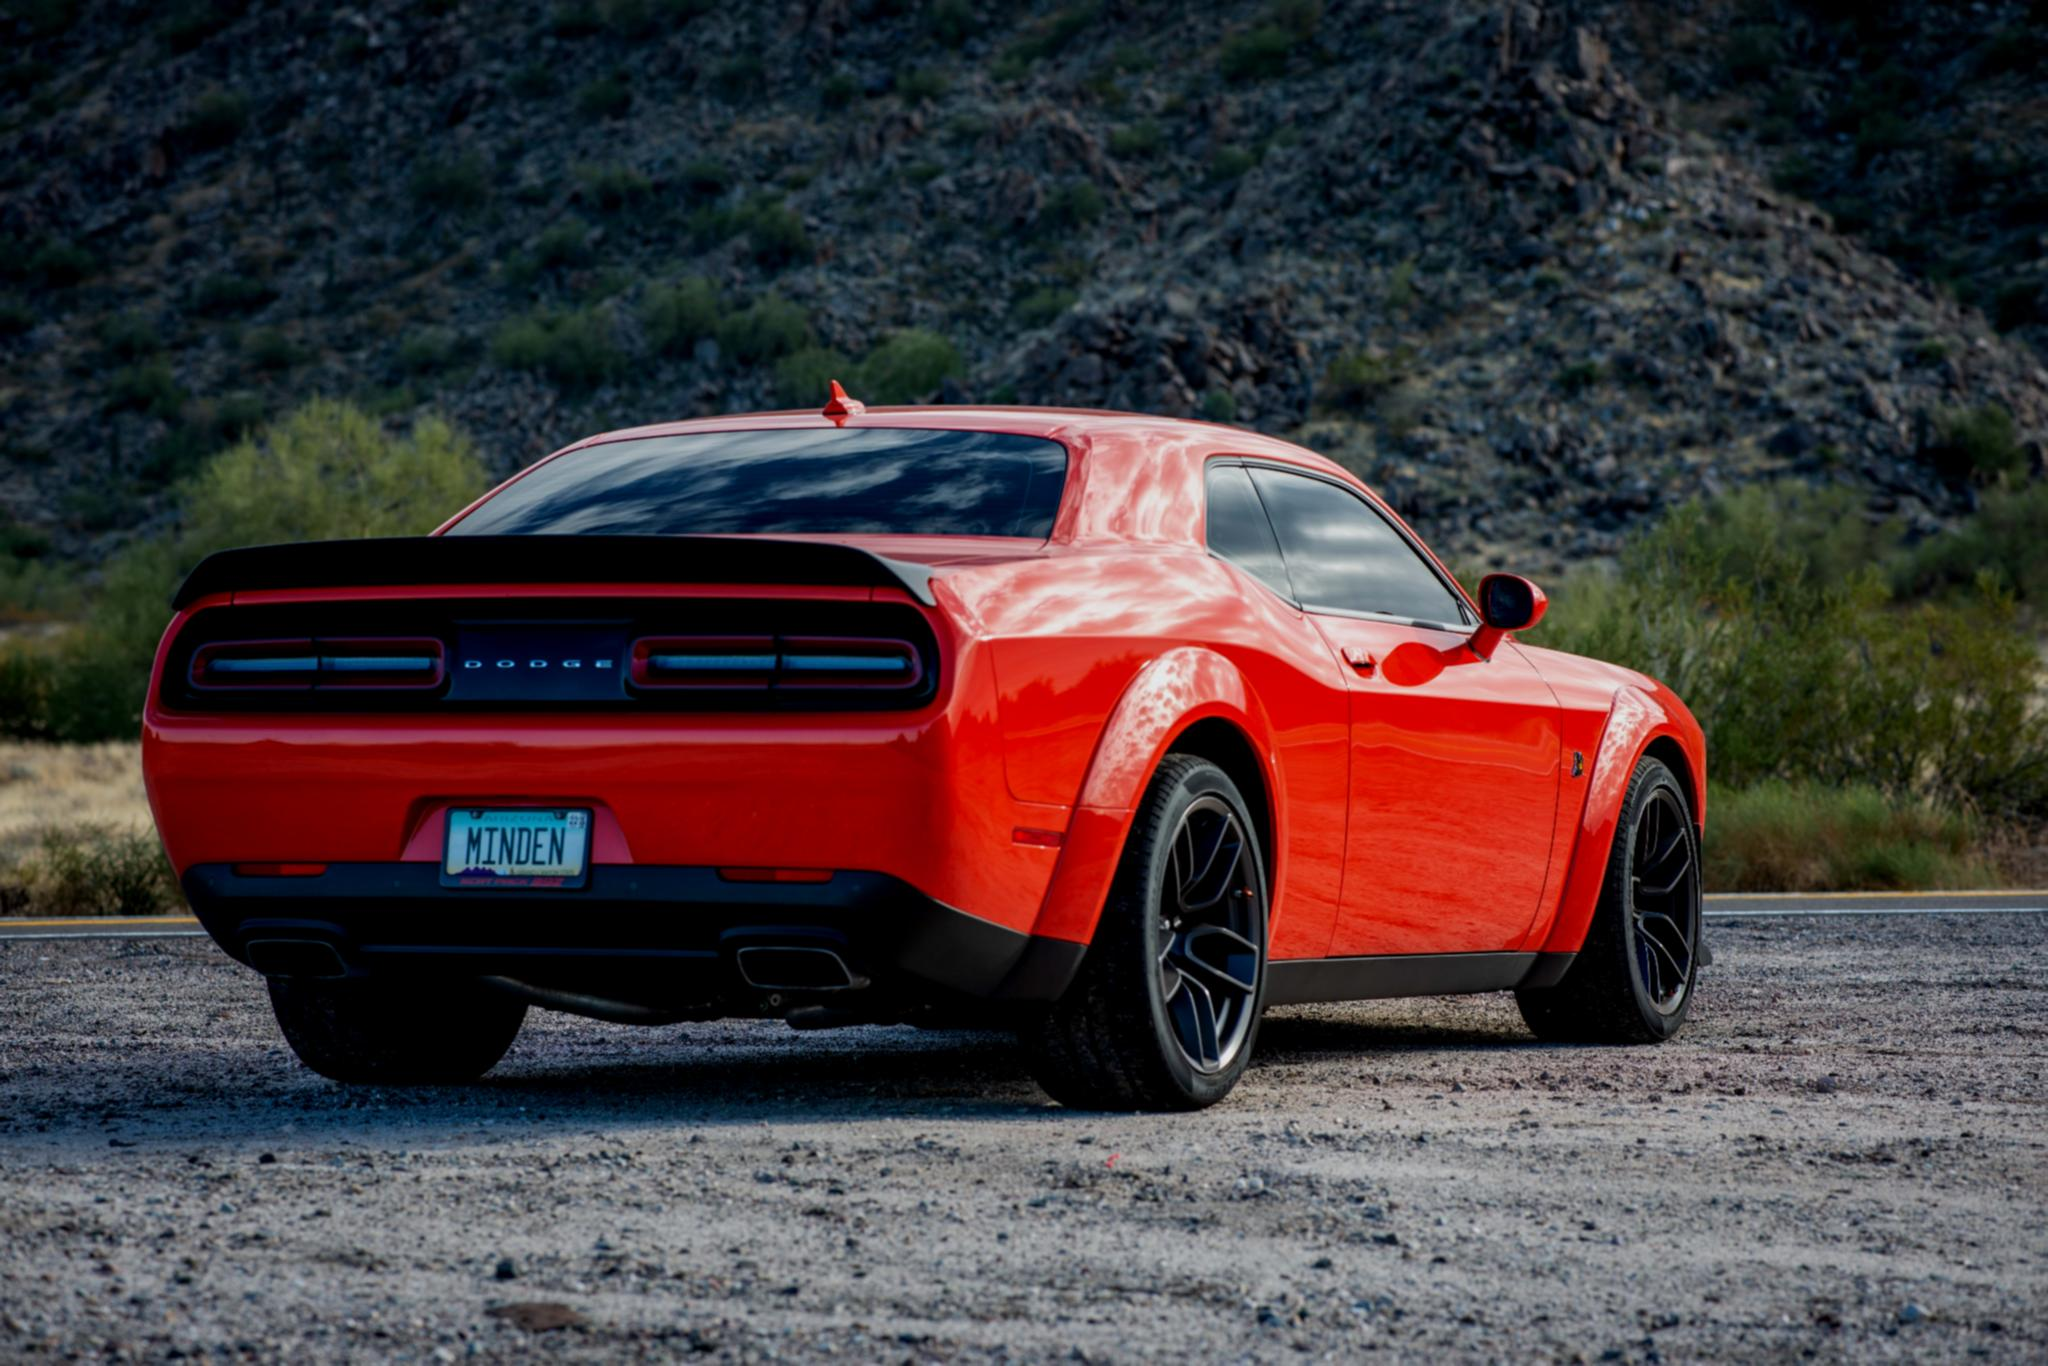dodge: (433, 633, 658, 718)
